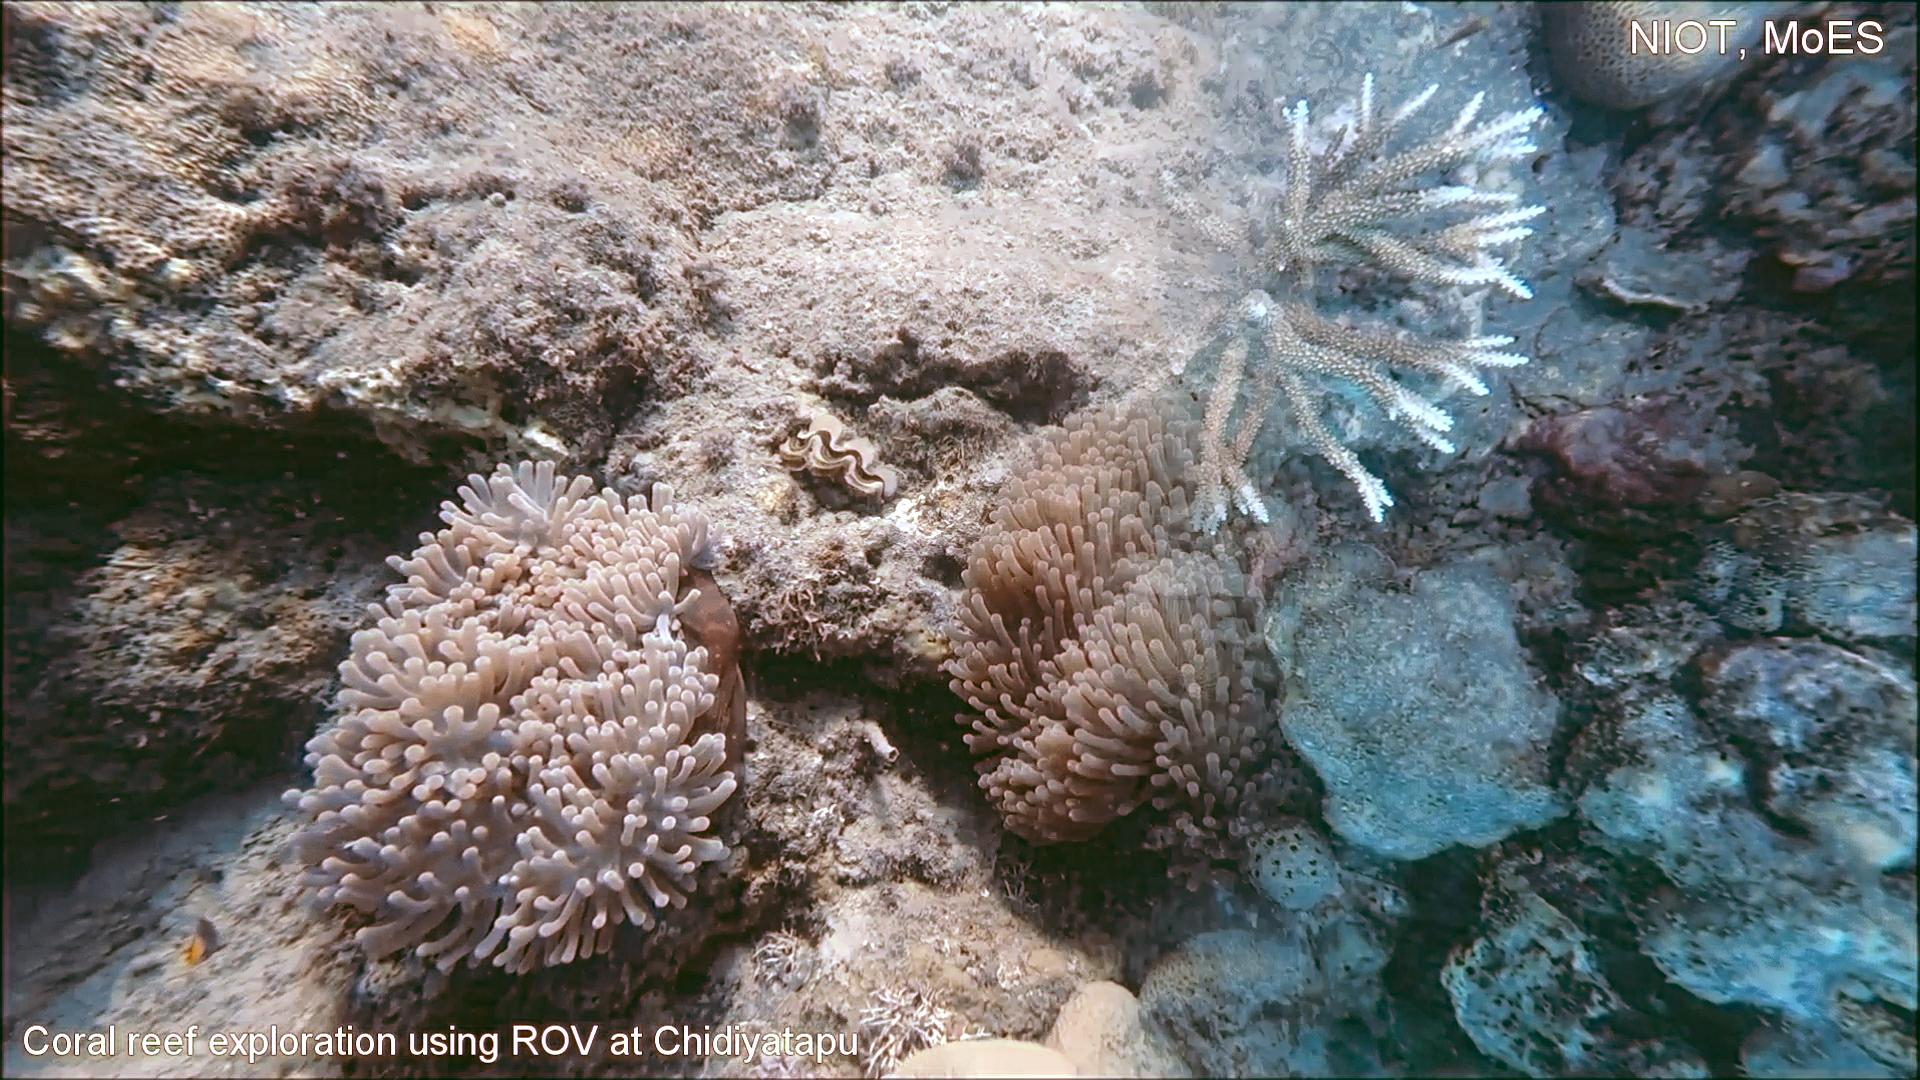Macrodactyla doreensis-Long tentacle Anemone: (272, 444, 752, 988), (944, 389, 1265, 897)
Tridacna Clam: (764, 401, 905, 512)
